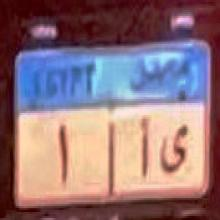1: (56, 122, 72, 184)
alif: (136, 115, 154, 178)
yaa: (160, 121, 188, 176)
